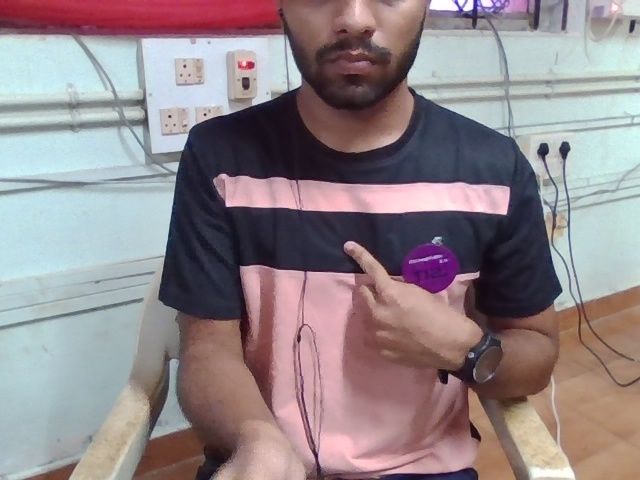my turn: (285, 210, 489, 413)
